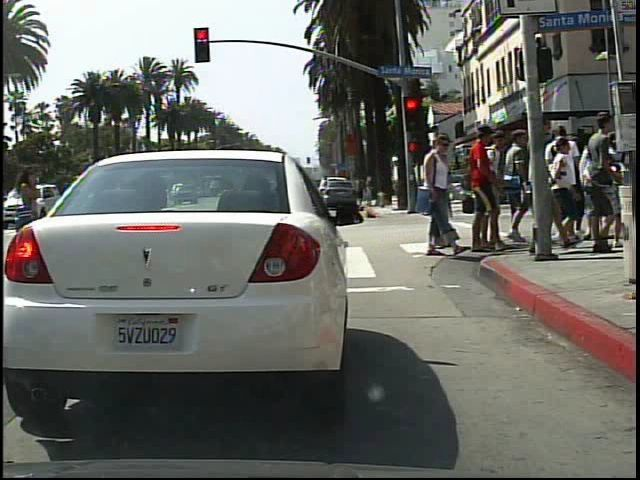person: (415, 129, 468, 264)
